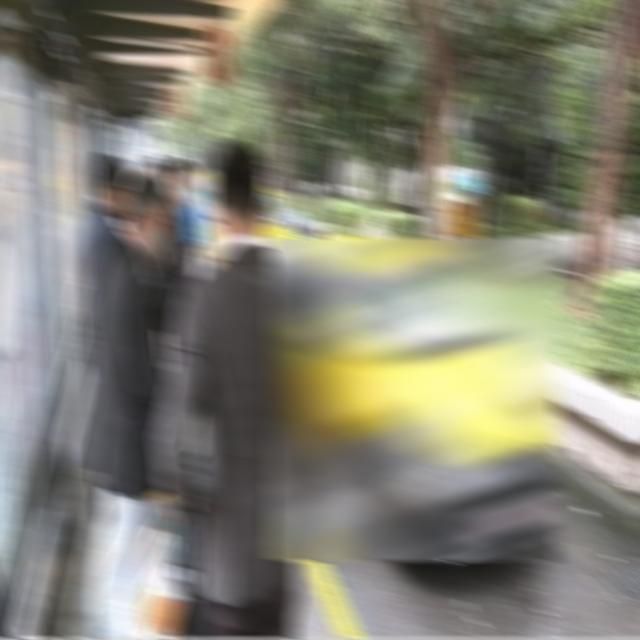Taxi: (267, 240, 560, 559)
